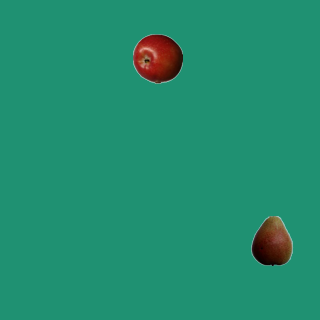Apple Braeburn: (132, 33, 182, 83)
Pear Forelle: (246, 215, 296, 265)
